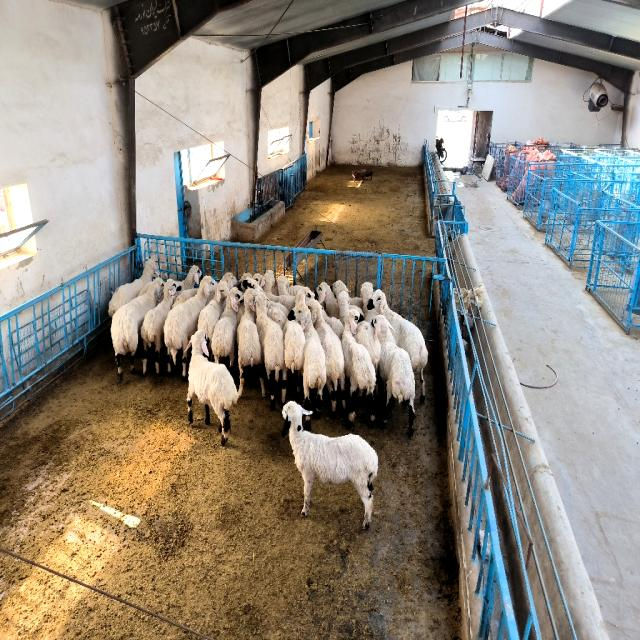sheep: (282, 402, 378, 528), (365, 292, 428, 401), (188, 330, 238, 444), (111, 278, 164, 382), (164, 275, 216, 378), (375, 315, 415, 436), (288, 298, 326, 418), (309, 300, 345, 416), (141, 278, 183, 374), (341, 312, 376, 427), (255, 293, 288, 409), (236, 288, 265, 398), (109, 258, 158, 316), (211, 288, 242, 366), (198, 280, 230, 348), (284, 318, 305, 392), (316, 282, 339, 318), (360, 282, 378, 321), (179, 265, 201, 290), (338, 290, 350, 322)
